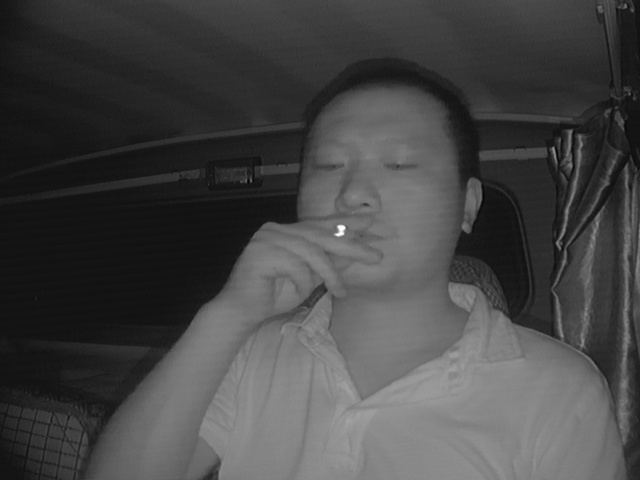hand: (235, 210, 384, 319)
